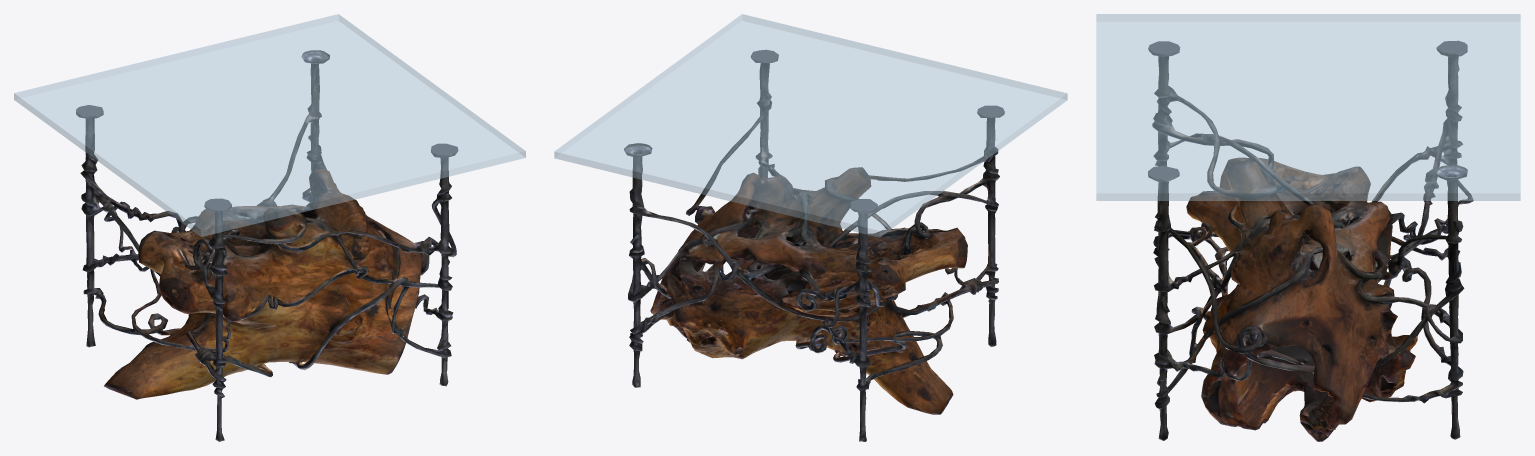
File: captured_log.glb
3 views of the same model, side by side, from view 1: azimuth 30°, elevation 25°; view 2: azimuth 150°, elevation 25°; view 3: azimuth 270°, elevation 25° (orthographic). The views are drawn at different scales.
Parts seen in each view (by area): view 1: Cube.001, g0.001; view 2: Cube.001, g0.001; view 3: Cube.001, g0.001.
Part boxes in pixels (left/top/right/bottom): Cube.001: left=14, top=14, right=525, bottom=236; g0.001: left=76, top=50, right=458, bottom=441; Cube.001: left=554, top=14, right=1067, bottom=237; g0.001: left=624, top=49, right=1004, bottom=441; Cube.001: left=1096, top=14, right=1520, bottom=200; g0.001: left=1148, top=40, right=1473, bottom=441.
Size of the model in its own units: 2 by 1.43 by 2.
Materials: 2 (1 with a texture image).
